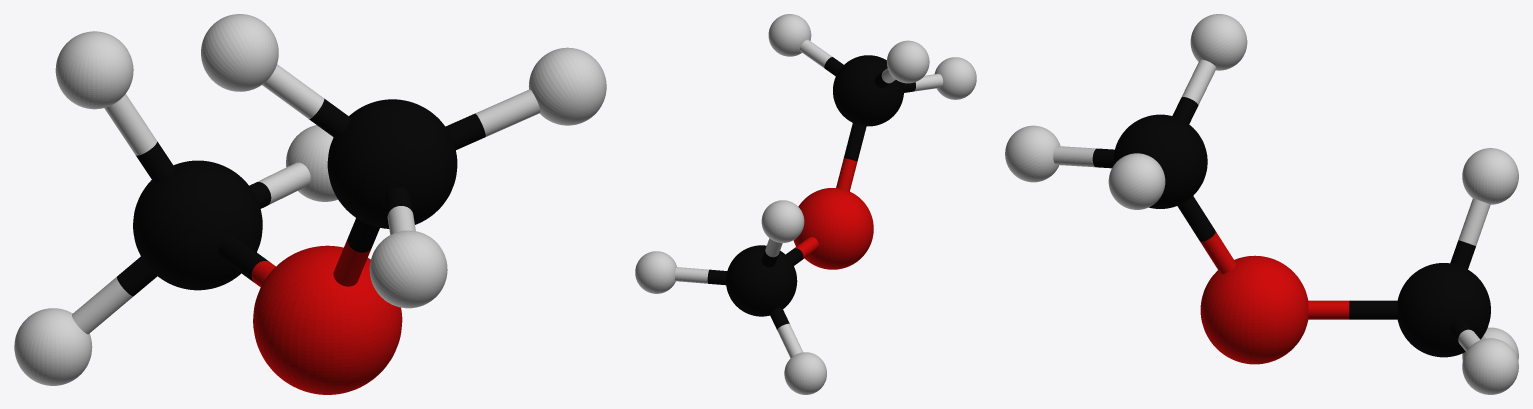
File: Metoximetanopaulo.obj
3 views of the same model, side by side, from view 1: azimuth 30°, elevation 25°; view 2: azimuth 150°, elevation 25°; view 3: azimuth 270°, elevation 25° (orthographic). The views are drawn at different scales.
Parts seen in each view (by area): view 1: Esfera_UV, Esfera_UV.002, Esfera_UV.016, Esfera_UV.013, Esfera_UV.003, Esfera_UV.014, Esfera_UV.015, Esfera_UV.004, Cilindro.004_Cilindro.002, Cilindro.001_Cilindro.000, Cilindro.001_Cilindro.007, Cilindro.002_Cilindro.008 (+6 smaller); view 2: Esfera_UV, Esfera_UV.002, Esfera_UV.016, Esfera_UV.003, Esfera_UV.014, Esfera_UV.004, Esfera_UV.005, Esfera_UV.015, Esfera_UV.013, Cilindro.003_Cilindro.000, Cilindro.001_Cilindro.007, Cilindro.004_Cilindro.002 (+4 smaller); view 3: Esfera_UV, Esfera_UV.002, Esfera_UV.016, Esfera_UV.015, Esfera_UV.005, Esfera_UV.003, Esfera_UV.014, Esfera_UV.013, Cilindro.002_Cilindro.008, Cilindro.001_Cilindro.000, Cilindro.002_Cilindro.000, Cilindro.001 (+4 smaller).
Part boxes in pixels (x1=…): Esfera_UV: x1=253, y1=245, x2=402, y2=394; Esfera_UV.002: x1=133, y1=160, x2=262, y2=290; Esfera_UV.016: x1=327, y1=99, x2=457, y2=228; Esfera_UV.013: x1=369, y1=230, x2=447, y2=308; Esfera_UV.003: x1=55, y1=31, x2=133, y2=109; Esfera_UV.014: x1=201, y1=14, x2=278, y2=91; Esfera_UV.015: x1=528, y1=47, x2=606, y2=125; Esfera_UV.004: x1=14, y1=308, x2=92, y2=385; Cilindro.004_Cilindro.002: x1=445, y1=89, x2=540, y2=149; Cilindro.001_Cilindro.000: x1=262, y1=64, x2=350, y2=138; Cilindro.001_Cilindro.007: x1=72, y1=256, x2=157, y2=334; Cilindro.002_Cilindro.008: x1=104, y1=94, x2=174, y2=182; Esfera_UV: x1=793, y1=188, x2=873, y2=269; Esfera_UV.002: x1=726, y1=245, x2=797, y2=316; Esfera_UV.016: x1=833, y1=55, x2=903, y2=126; Esfera_UV.003: x1=761, y1=200, x2=804, y2=242; Esfera_UV.014: x1=886, y1=40, x2=929, y2=83; Esfera_UV.004: x1=784, y1=352, x2=826, y2=394; Esfera_UV.005: x1=635, y1=251, x2=676, y2=293; Esfera_UV.015: x1=768, y1=14, x2=811, y2=56; Esfera_UV.013: x1=934, y1=57, x2=976, y2=99; Cilindro.003_Cilindro.000: x1=675, y1=267, x2=727, y2=285; Cilindro.001_Cilindro.007: x1=769, y1=307, x2=802, y2=358; Cilindro.004_Cilindro.002: x1=800, y1=39, x2=843, y2=76; Esfera_UV: x1=1200, y1=255, x2=1308, y2=364; Esfera_UV.002: x1=1397, y1=263, x2=1490, y2=357; Esfera_UV.016: x1=1113, y1=114, x2=1207, y2=208; Esfera_UV.015: x1=1108, y1=153, x2=1165, y2=209; Esfera_UV.005: x1=1462, y1=338, x2=1518, y2=394; Esfera_UV.003: x1=1462, y1=148, x2=1518, y2=204; Esfera_UV.014: x1=1190, y1=14, x2=1247, y2=70; Esfera_UV.013: x1=1005, y1=125, x2=1060, y2=182; Cilindro.002_Cilindro.008: x1=1450, y1=198, x2=1490, y2=269; Cilindro.001_Cilindro.000: x1=1172, y1=59, x2=1216, y2=123; Cilindro.002_Cilindro.000: x1=1053, y1=146, x2=1114, y2=168; Cilindro.001: x1=1349, y1=300, x2=1397, y2=319.
Bounding box in the file's own units: 6.03 × 8.52 × 10.88.
